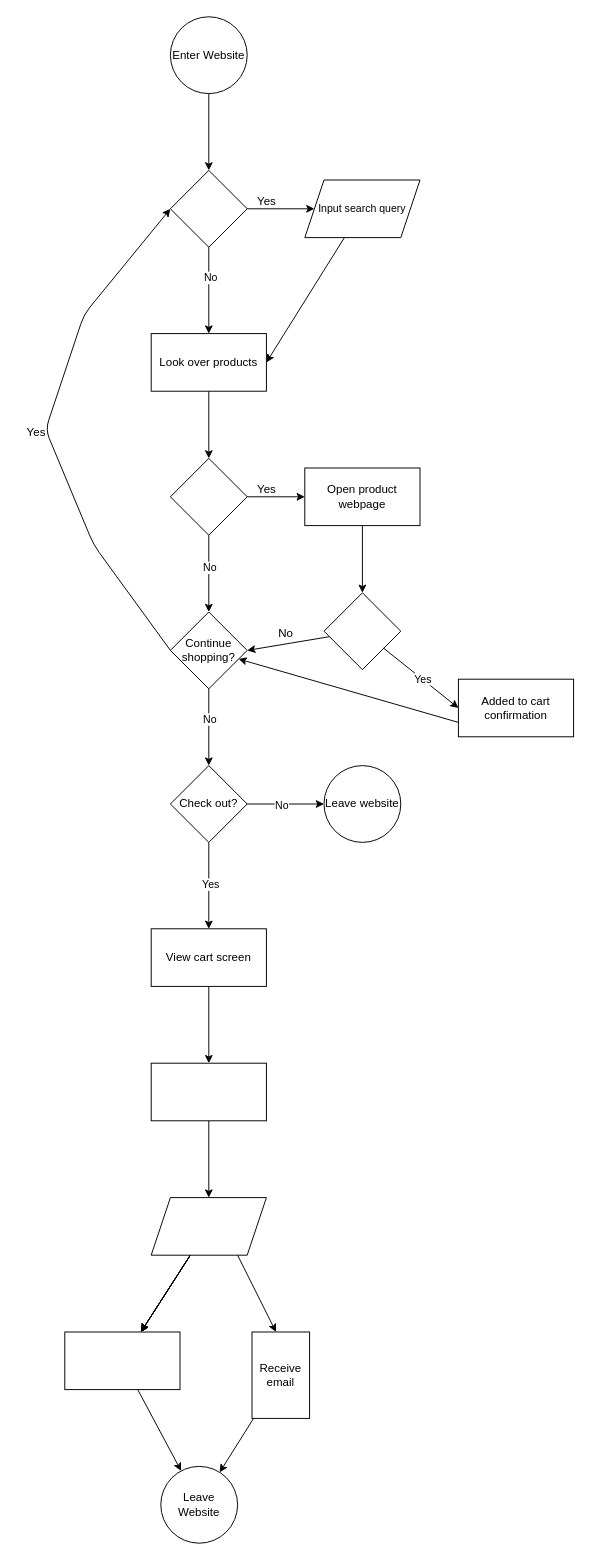
This 590x1560 diagram has some shape labels left out. The shapes that lost their labels are listed below. From the top down, each one's centre as x and y in pixels, then its label:
the point at 208,208: Search for a product?
the point at 208,496: View specific product?
the point at 362,631: Add to cart?
the point at 208,1091: View Payment screen
the point at 208,1226: Input payment info
the point at 122,1360: Order confirmation screen
